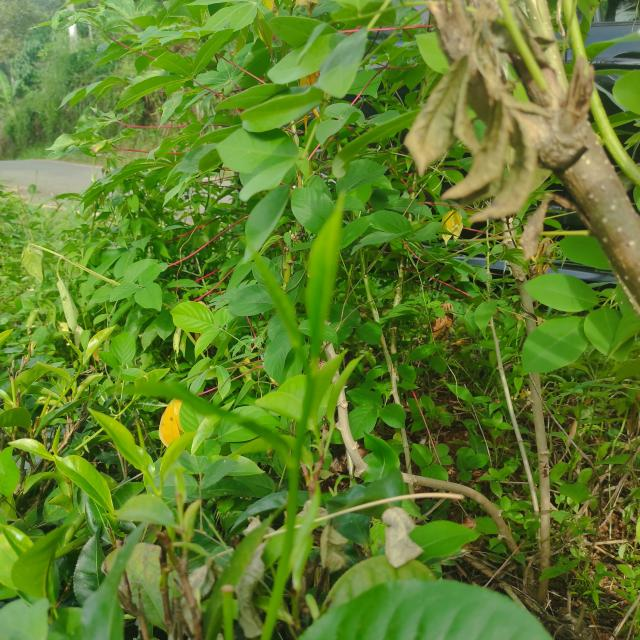unopened_leaf: (232, 232, 315, 380)
